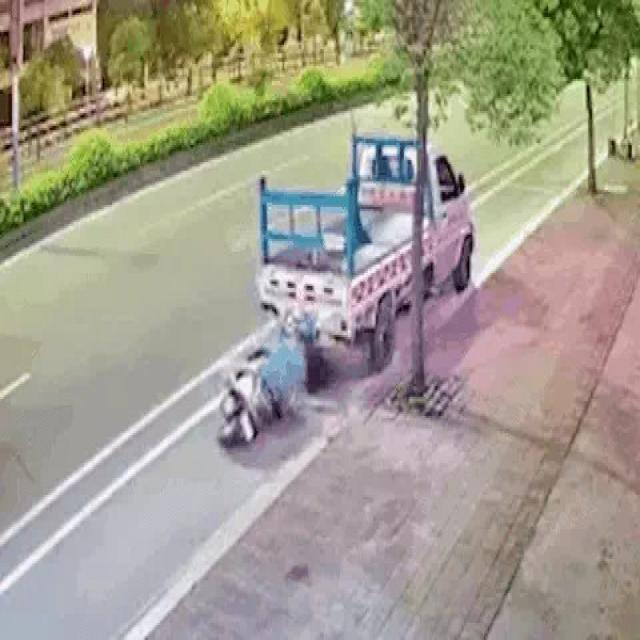multiple_accident: (210, 133, 480, 460)
